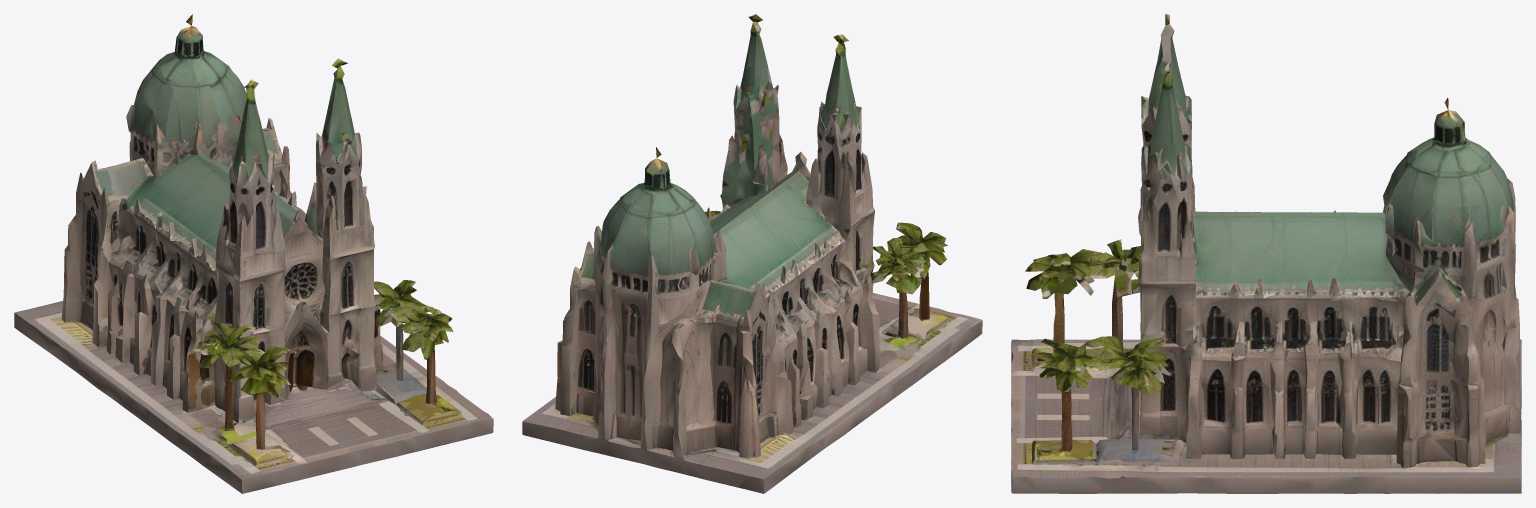
File: sao-paulo-cathedral.glb
3 views of the same model, side by side, from view 1: azimuth 30°, elevation 25°; view 2: azimuth 150°, elevation 25°; view 3: azimuth 270°, elevation 25° (orthographic). The views are drawn at different scales.
Visible parts, largest first — view 1: logan-textured.obj; view 2: logan-textured.obj; view 3: logan-textured.obj.
Part boxes in pixels (x1,y1,x2,y2): logan-textured.obj: [14, 14, 493, 493]; logan-textured.obj: [522, 14, 982, 493]; logan-textured.obj: [1011, 14, 1521, 493].
Bounding box in the file's own units: 0.6389 × 0.8336 × 1.
1 material, 1 textured.
